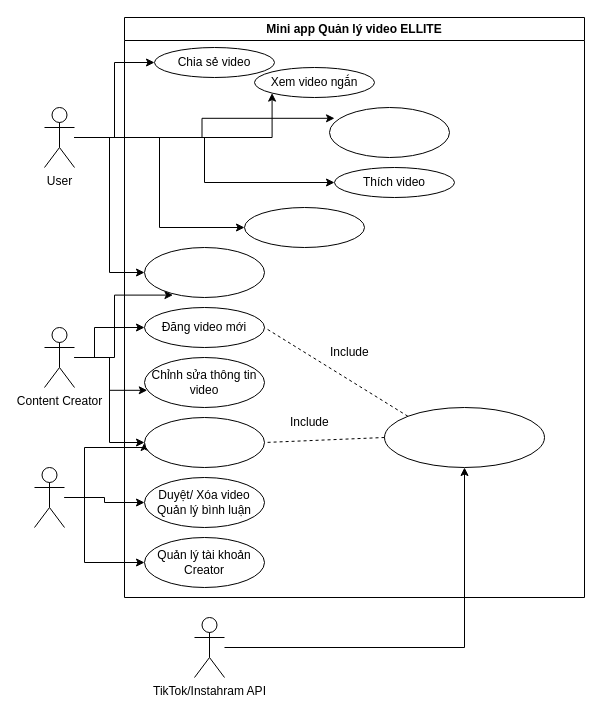
The diagram is 602 pixels wide and 716 high, and some of its shapes have lost their labels. Here are the shapes that lost their labels. From the top down, the centre of each, then its label:
point (389, 132): Tìm kiếm video/sản phẩm
point (304, 227): Bình luận video
point (204, 272): Đăng kí/ đăng nhập
point (204, 442): Xem phản hồi/ thống kê
point (464, 437): Đồng bộ video Nhận dữ liệu tương tác
point (49, 497): Admin
